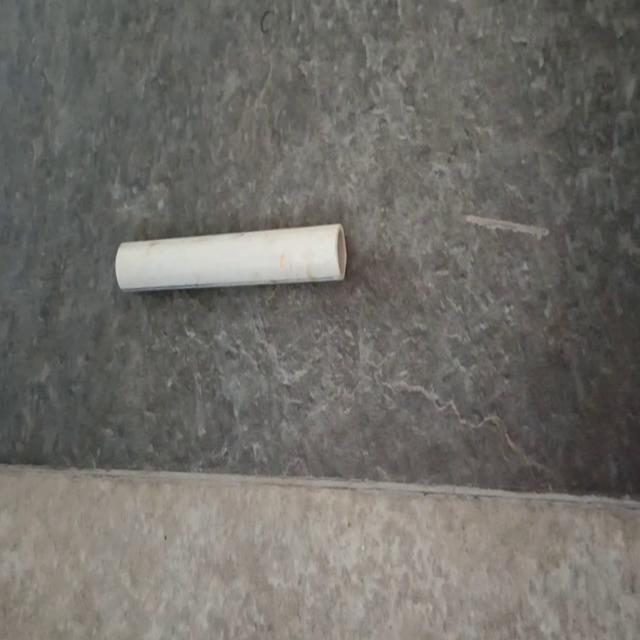Cube: (114, 220, 348, 294)
